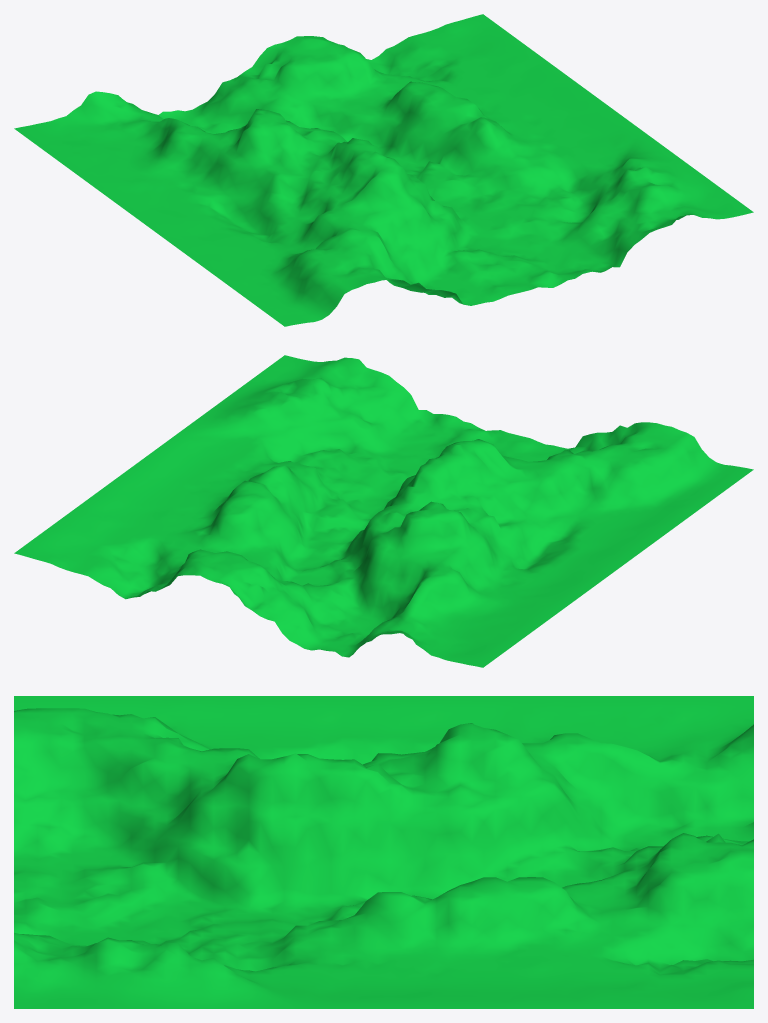
The model's file is Landscape2.obj.
3 views of the same model, one above another, from view 1: azimuth 30°, elevation 25°; view 2: azimuth 150°, elevation 25°; view 3: azimuth 270°, elevation 25° (orthographic). The views are drawn at different scales.
Visible parts, largest first — view 1: Landscape; view 2: Landscape; view 3: Landscape.
Part boxes in pixels (<box>): Landscape: <box>14,14,753,326</box>; Landscape: <box>14,355,753,667</box>; Landscape: <box>14,696,753,1008</box>.
Bounding box in the file's own units: 2 × 0.3284 × 2.
Materials: 1 (1 with a texture image).
